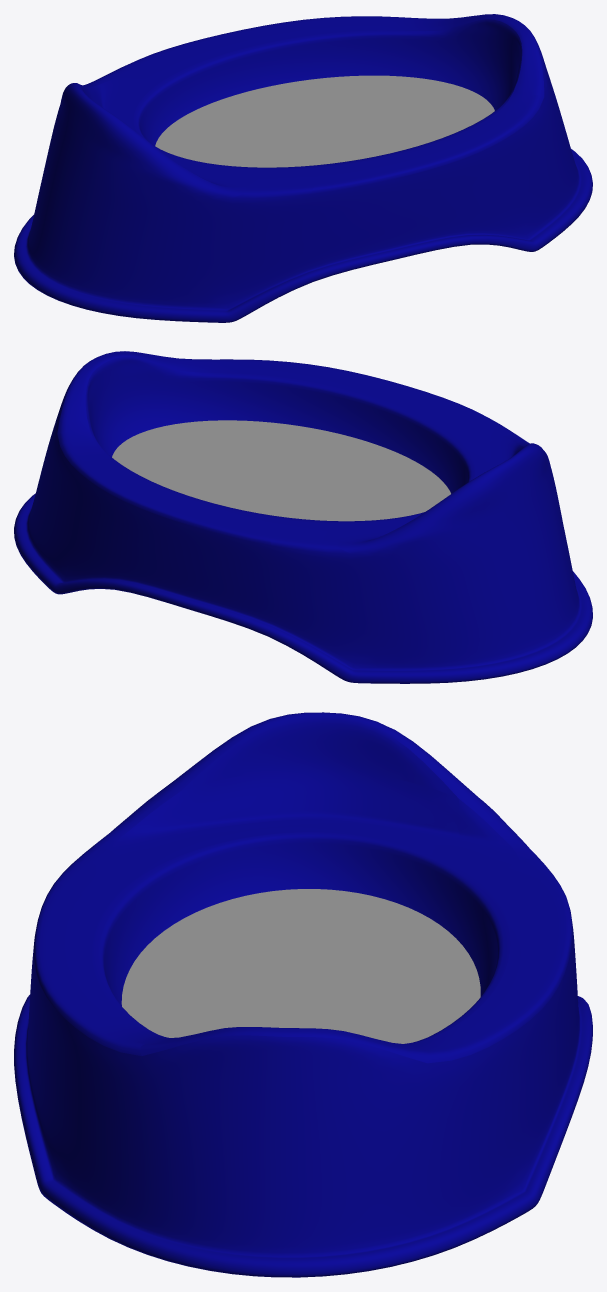
File: cat_toilet.FBX
3 views of the same model, one above another, from view 1: azimuth 30°, elevation 25°; view 2: azimuth 150°, elevation 25°; view 3: azimuth 270°, elevation 25° (orthographic). The views are drawn at different scales.
Parts seen in each view (by area): view 1: chamber-po; view 2: chamber-po; view 3: chamber-po.
Part boxes in pixels (left/top/right/bottom): chamber-po: left=14, top=14, right=592, bottom=322; chamber-po: left=14, top=351, right=592, bottom=683; chamber-po: left=14, top=712, right=592, bottom=1277.
Bounding box in the file's own units: 2415 × 762 × 1603.
